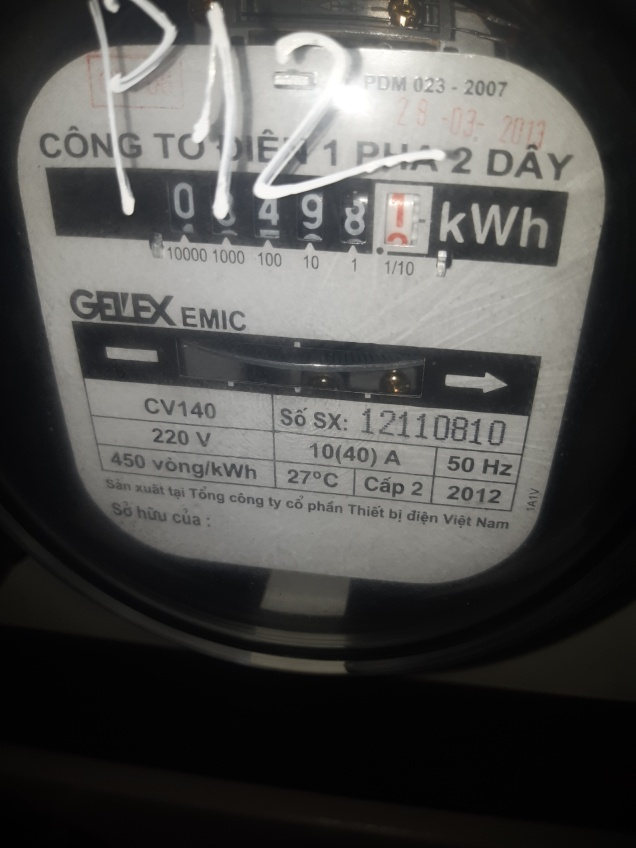counter: (52, 172, 569, 260)
electricity_meter: (10, 15, 613, 601)
